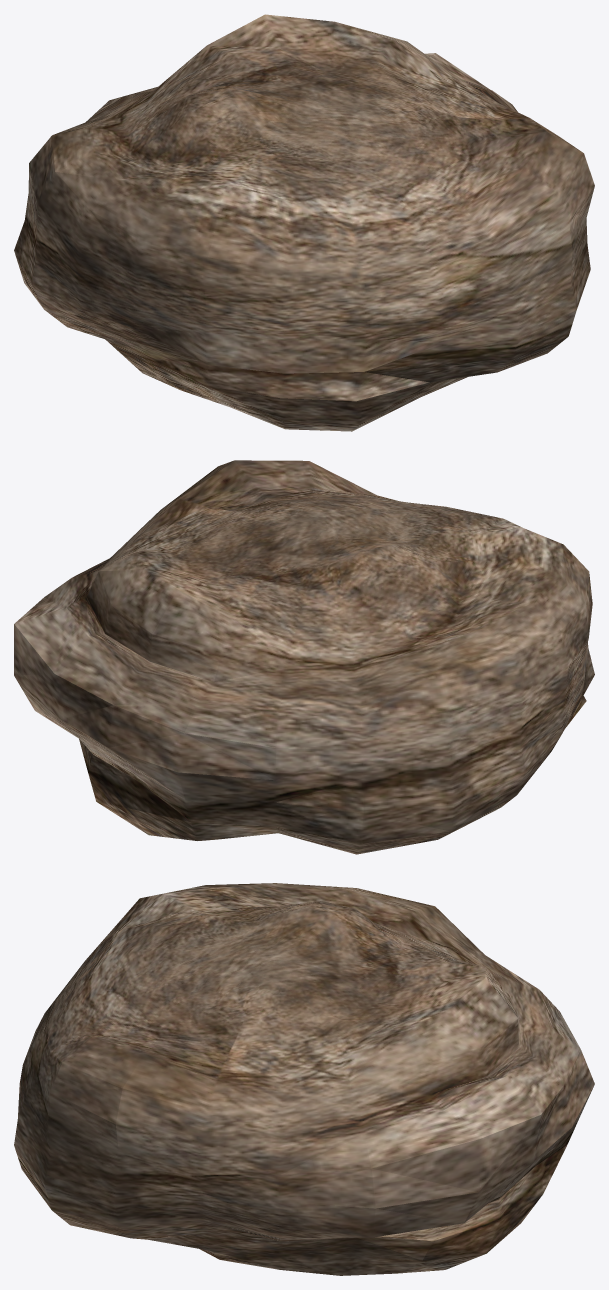
The model's file is RockSmallFlat_LOD0.obj.
3 renders of one model, top to bottom at view 1: azimuth 30°, elevation 25°; view 2: azimuth 150°, elevation 25°; view 3: azimuth 270°, elevation 25°, orthographic.
Visible parts, largest first — view 1: RockSmallFlat_LOD0; view 2: RockSmallFlat_LOD0; view 3: RockSmallFlat_LOD0.
Part boxes in pixels (left/top/right/bottom): RockSmallFlat_LOD0: left=14, top=14, right=594, bottom=431; RockSmallFlat_LOD0: left=14, top=460, right=594, bottom=854; RockSmallFlat_LOD0: left=14, top=883, right=594, bottom=1275.
Bounding box in the file's own units: 1.63 × 0.8549 × 1.65.
